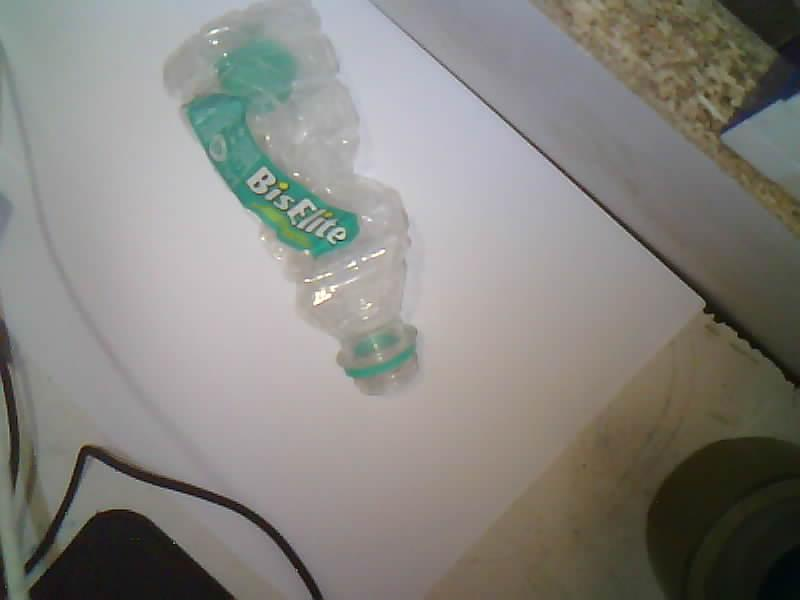non-biodegradable: (164, 0, 416, 393)
